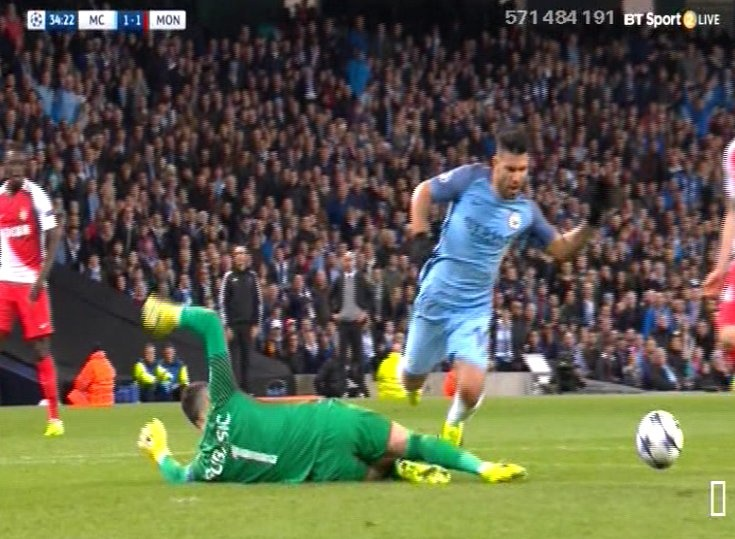falling: (107, 276, 543, 497)
